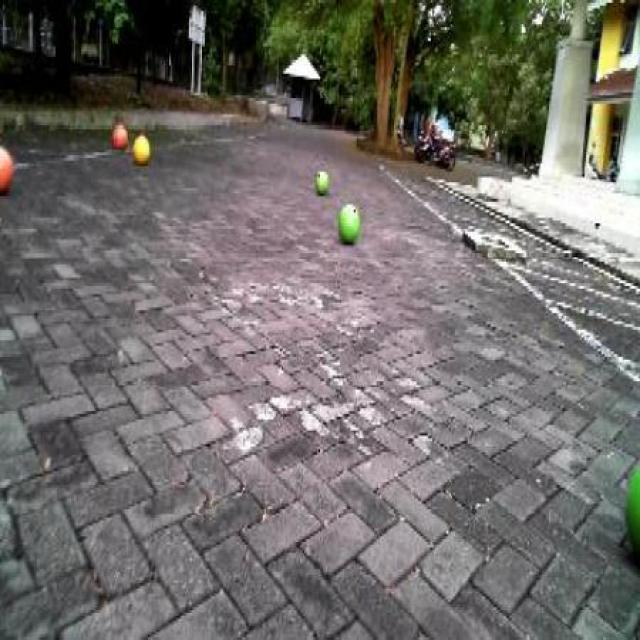buoy: (620, 442, 639, 570), (334, 196, 364, 253), (0, 134, 17, 203), (129, 130, 154, 170), (109, 118, 131, 154), (312, 164, 332, 199)
